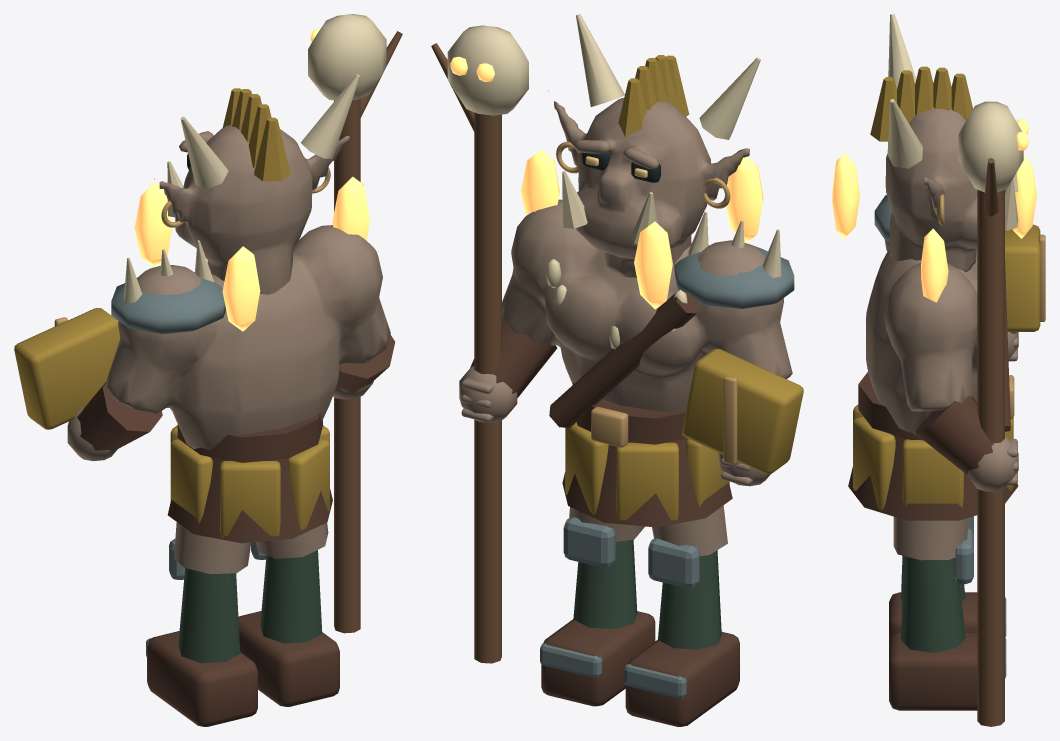
File: host_31.glb
The picture shows the model from 3 angles, left to right: view 1: azimuth 30°, elevation 25°; view 2: azimuth 150°, elevation 25°; view 3: azimuth 270°, elevation 25°; orthographic projection. The views are drawn at different scales.
Parts seen in each view (by area): view 1: mesh_Skin.002, mesh_Cloth.030, mesh_Leather.002, mesh_Bone.030, mesh_Wood.030, mesh_Leather.030, mesh_Leather.001, mesh_Shadow.030, mesh_Shadow.001, mesh_Iron.002, mesh_Skin.030, mesh_Soul.003 (+3 smaller); view 2: mesh_Skin.002, mesh_Cloth.030, mesh_Wood.030, mesh_Leather.002, mesh_Bone.030, mesh_Leather.030, mesh_Leather.001, mesh_Shadow.030, mesh_Shadow.001, mesh_Iron.002, mesh_Iron.030, mesh_Iron.001 (+7 smaller); view 3: mesh_Skin.002, mesh_Cloth.030, mesh_Wood.030, mesh_Leather.002, mesh_Bone.030, mesh_Leather.001, mesh_Shadow.001, mesh_Skin.001, mesh_Soul.003, mesh_Soul.001, mesh_Soul.002, mesh_Leather.030 (+3 smaller).
Boxes of the visible parts, <box> form: mesh_Skin.002: <box>67,125,390,461</box>; mesh_Cloth.030: <box>14,88,329,537</box>; mesh_Leather.002: <box>77,335,395,543</box>; mesh_Bone.030: <box>124,14,386,303</box>; mesh_Wood.030: <box>334,31,402,633</box>; mesh_Leather.030: <box>147,631,257,726</box>; mesh_Leather.001: <box>238,611,339,706</box>; mesh_Shadow.030: <box>178,568,240,663</box>; mesh_Shadow.001: <box>260,550,322,643</box>; mesh_Iron.002: <box>111,272,225,334</box>; mesh_Skin.030: <box>174,522,251,574</box>; mesh_Soul.003: <box>222,246,260,331</box>; mesh_Skin.002: <box>459,90,792,486</box>; mesh_Cloth.030: <box>565,55,803,521</box>; mesh_Wood.030: <box>431,43,501,663</box>; mesh_Leather.002: <box>470,291,732,527</box>; mesh_Bone.030: <box>447,14,781,349</box>; mesh_Leather.030: <box>625,632,739,726</box>; mesh_Leather.001: <box>541,611,655,706</box>; mesh_Shadow.030: <box>658,550,721,649</box>; mesh_Shadow.001: <box>573,539,637,628</box>; mesh_Iron.002: <box>674,245,794,308</box>; mesh_Iron.030: <box>624,538,699,698</box>; mesh_Iron.001: <box>540,517,615,677</box>; mesh_Skin.002: <box>866,107,1018,491</box>; mesh_Cloth.030: <box>853,66,1040,510</box>; mesh_Wood.030: <box>977,158,1004,726</box>; mesh_Leather.002: <box>848,261,1018,520</box>; mesh_Bone.030: <box>887,14,1023,230</box>; mesh_Leather.001: <box>889,632,977,710</box>; mesh_Shadow.001: <box>901,556,965,652</box>; mesh_Skin.001: <box>893,516,968,560</box>; mesh_Soul.003: <box>832,153,859,238</box>; mesh_Soul.001: <box>921,228,948,302</box>; mesh_Soul.002: <box>1013,155,1036,238</box>; mesh_Leather.030: <box>889,592,977,641</box>.
Bounding box in the file's own units: 1.2 × 1.98 × 0.6004.
